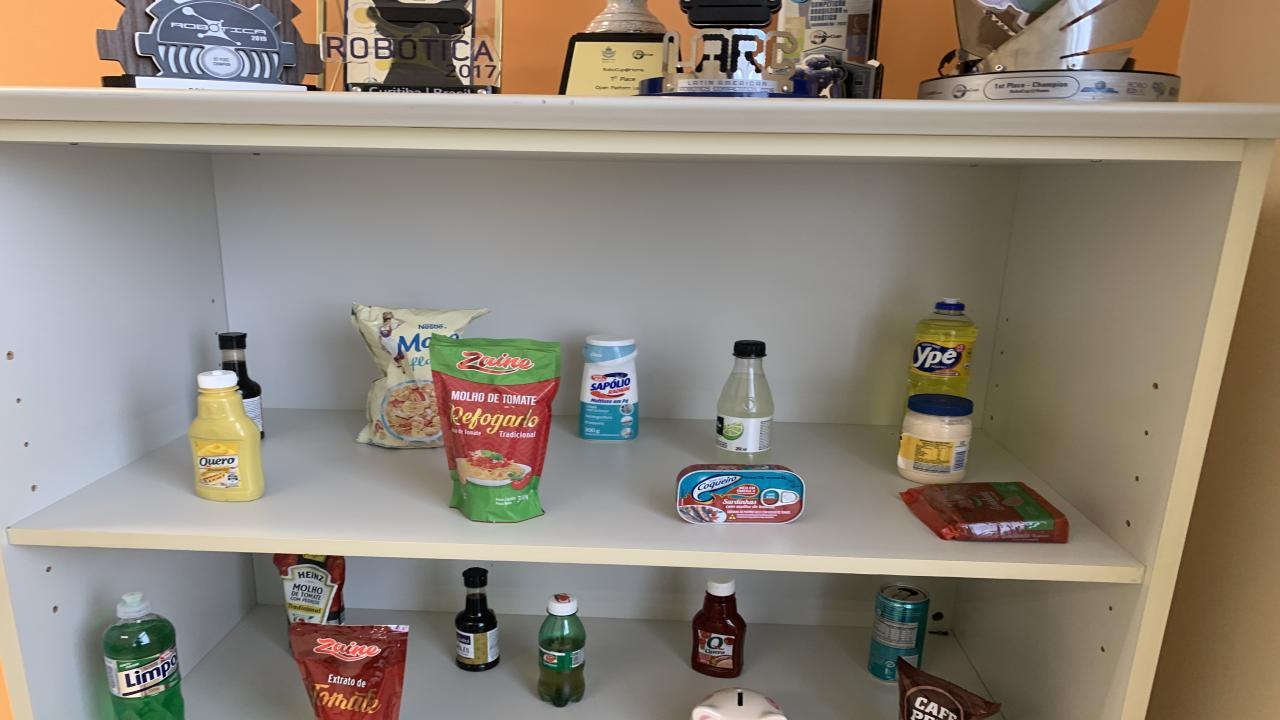Cleaner-Cleanup_Items: (580, 334, 638, 441)
Coffee-Pantry_Items: (900, 662, 1000, 720)
Detergent-Cleanup_Items: (102, 594, 182, 718), (908, 298, 978, 396)
English_Sauce-Pantry_Items: (455, 566, 500, 671), (218, 332, 262, 433)
Flakes-Snacks: (350, 304, 488, 448)
Guarana-Drinks: (538, 592, 585, 707)
Guava-Snacks: (902, 482, 1070, 544)
Ketchup-Pantry_Items: (692, 574, 745, 679)
Mayonnaise-Pantry_Items: (898, 394, 972, 484)
Mustard-Pantry_Items: (188, 369, 265, 502)
Pig_Safe-Miscellaneous: (690, 688, 785, 720)
Soda-Drinks: (715, 339, 775, 463)
Tea-Drinks: (868, 583, 930, 682)
Tomato_Sauce-Pantry_Items: (430, 336, 560, 523), (288, 622, 410, 720), (272, 553, 345, 624)
Tuna_Can-Pantry_Items: (675, 465, 805, 525)
